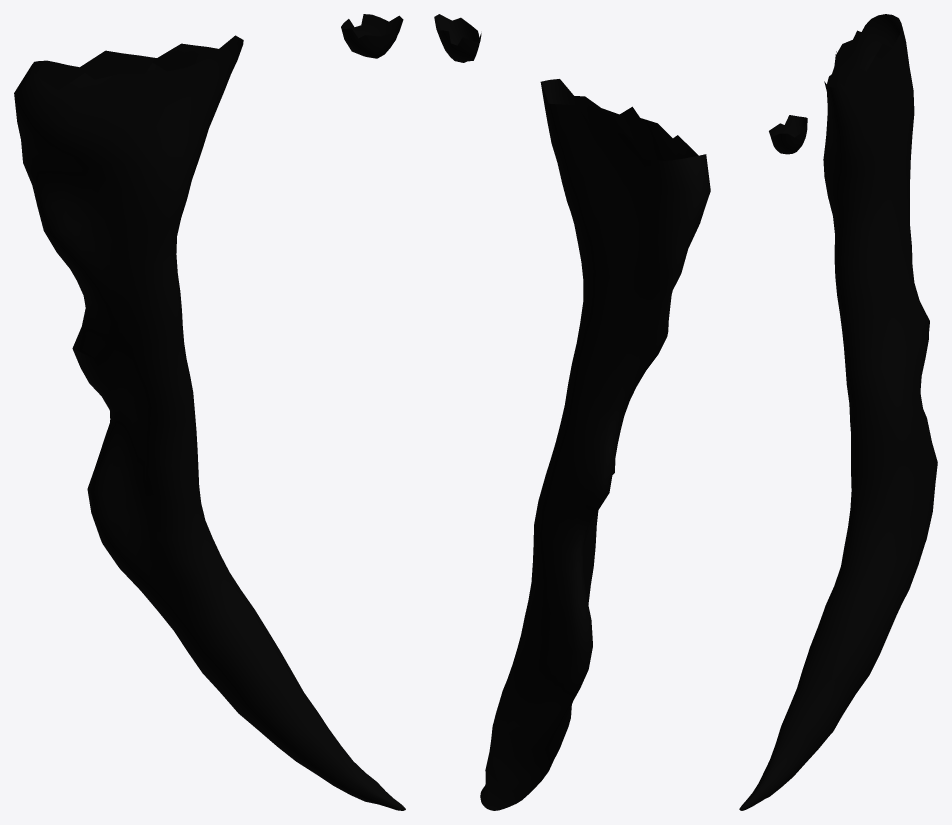
Rendered from Pie1A2.obj.
The picture shows the model from 3 angles, left to right: view 1: azimuth 30°, elevation 25°; view 2: azimuth 150°, elevation 25°; view 3: azimuth 270°, elevation 25°; orthographic projection. The views are drawn at different scales.
Parts seen in each view (by area): view 1: Pie1A2; view 2: Pie1A2; view 3: Pie1A2.
Part boxes in pixels (x1,y1,x2,y2): Pie1A2: (14, 14, 405, 810); Pie1A2: (434, 14, 710, 810); Pie1A2: (739, 14, 937, 810).
Size of the model in its own units: 0.4503 by 1.03 by 0.269.
1 material, 1 textured.
